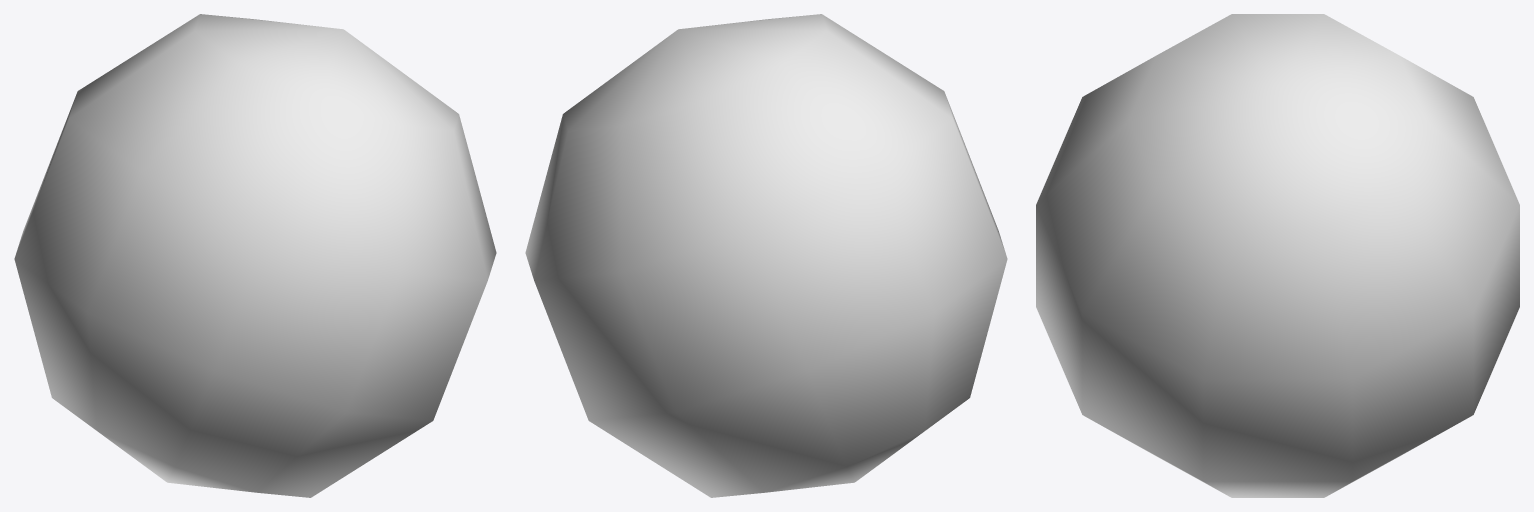
File: FloatingIsland_Dif2_Sc1.fbx
3 renders of one model, left to right at view 1: azimuth 30°, elevation 25°; view 2: azimuth 150°, elevation 25°; view 3: azimuth 270°, elevation 25°, orthographic. The views are drawn at different scales.
Parts seen in each view (by area): view 1: FloatingIsland_Dif2_Sc1; view 2: FloatingIsland_Dif2_Sc1; view 3: FloatingIsland_Dif2_Sc1.
Part boxes in pixels (x1,y1,x2,y2): FloatingIsland_Dif2_Sc1: (14, 14, 496, 497); FloatingIsland_Dif2_Sc1: (525, 14, 1007, 497); FloatingIsland_Dif2_Sc1: (1036, 14, 1519, 497).
Size of the model in its own units: 0.1562 by 0.1561 by 0.1587.
